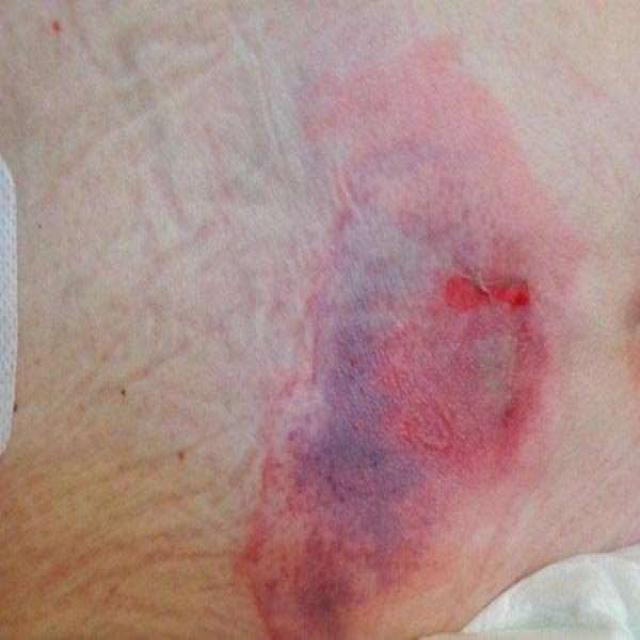DTI: (249, 138, 550, 640)
